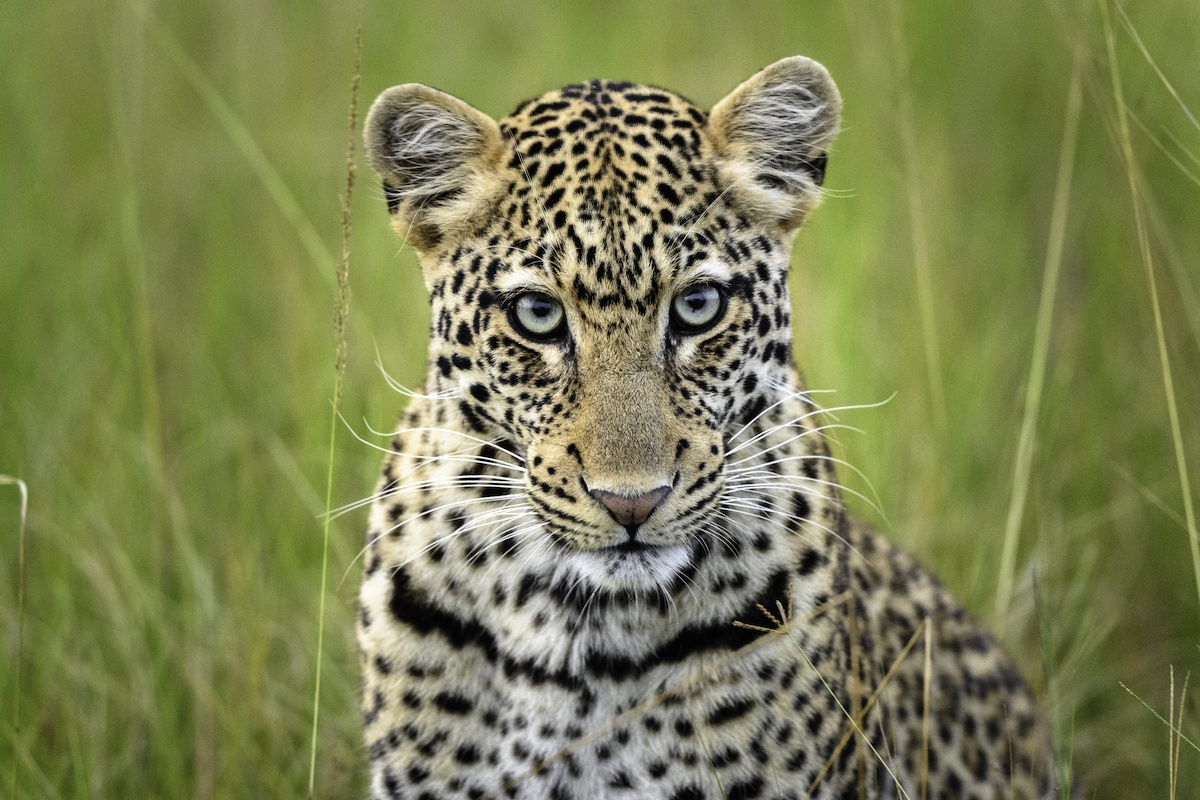leopard: (308, 51, 1075, 800)
